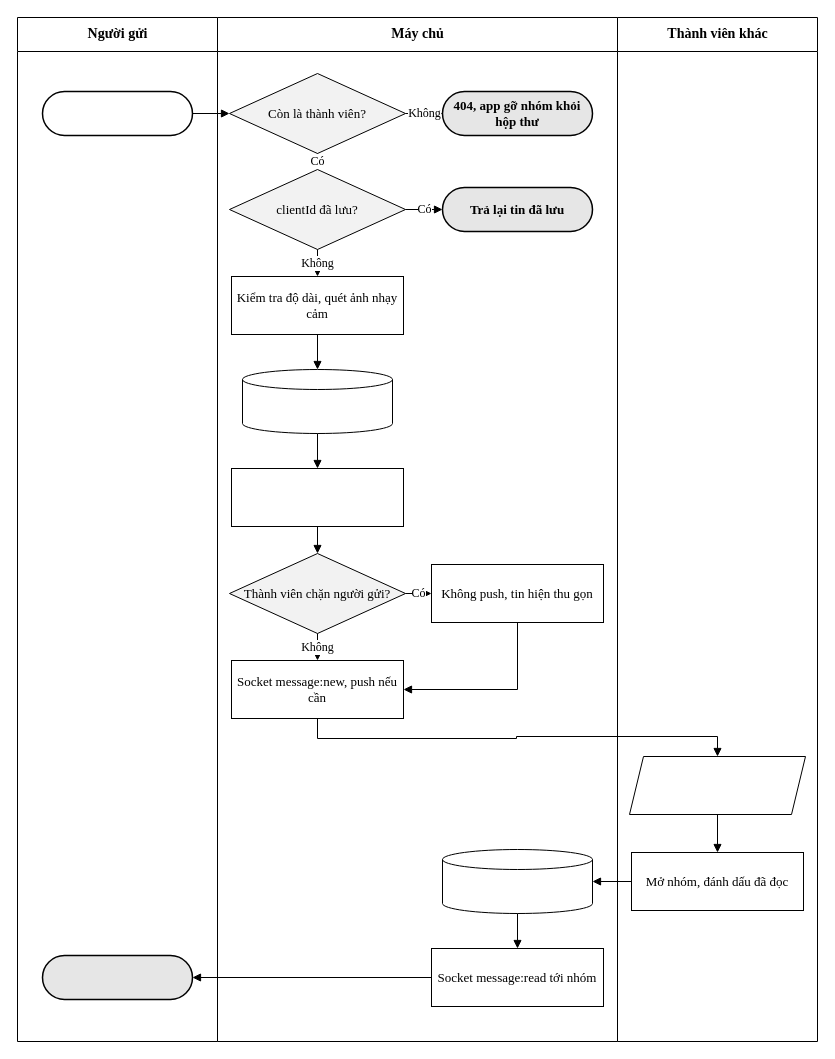
This 835x1059 diagram has some shape labels left out. Each missing label, with the centre of its shape:
"Ghi lastReadAt của thành viên" belongs at (517,881).
"Ghi Message, cập nhật lastMessageAt" belongs at (317,401).
"Gửi tin trong nhóm (kèm clientId)" belongs at (117,113).
"Lấy danh sách thành viên đang ở nhóm" belongs at (317,497).
"Thấy tin mới trong nhóm" belongs at (717,785).
"Thấy “Đã xem bởi 3 người”" belongs at (117,977).
